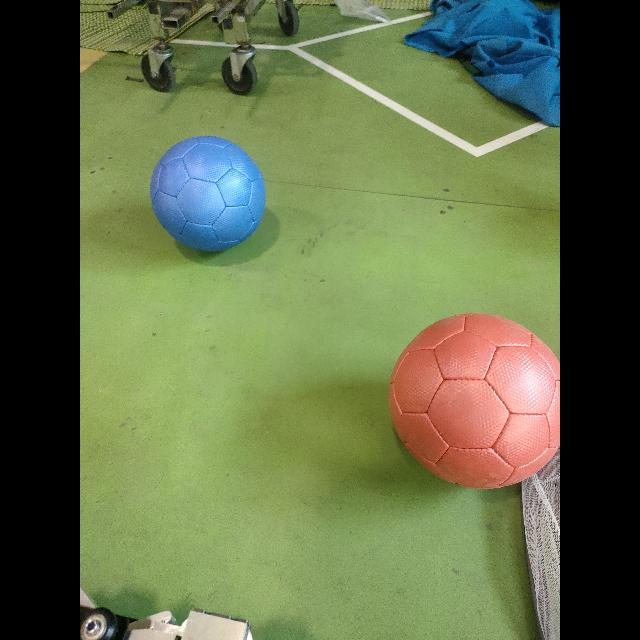B: (149, 136, 267, 257)
R: (388, 314, 560, 492)
